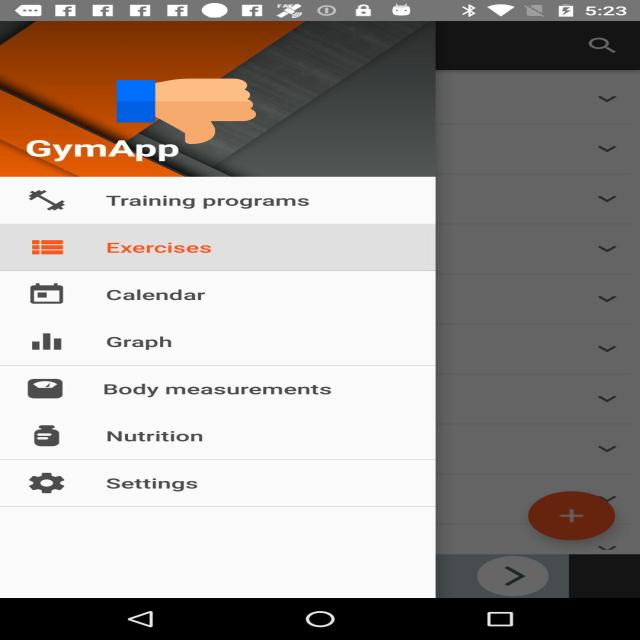obstruction: (117, 77, 256, 146)
